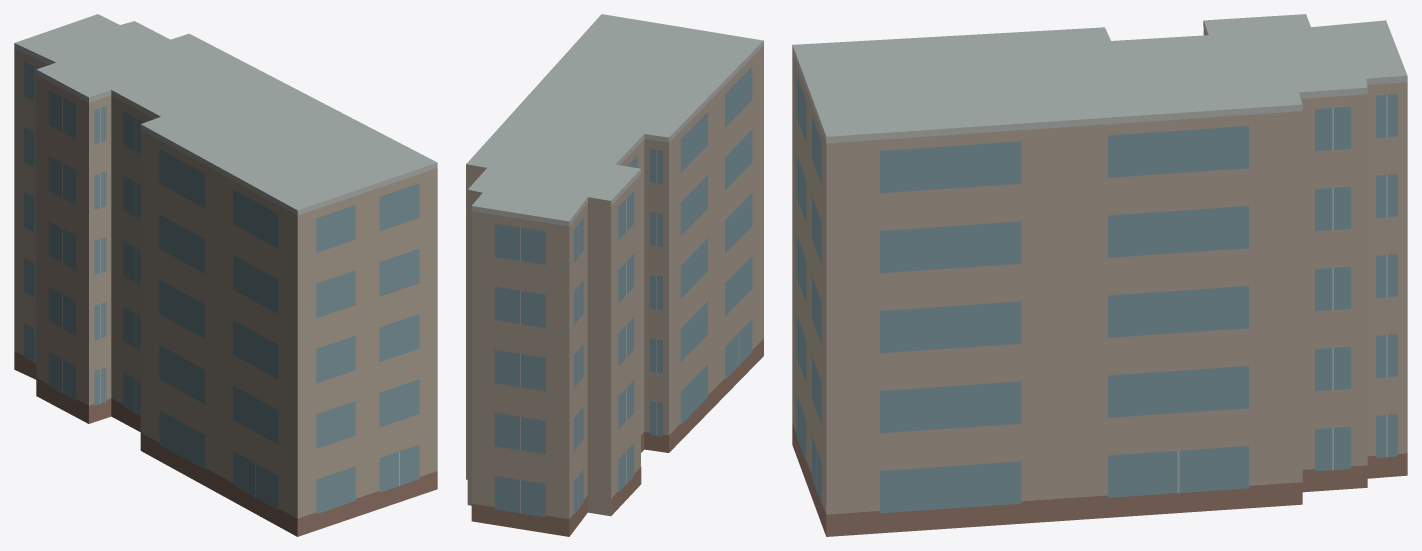
The model's file is survey-upis-33000239.glb.
3 views of the same model, side by side, from view 1: azimuth 30°, elevation 25°; view 2: azimuth 150°, elevation 25°; view 3: azimuth 270°, elevation 25° (orthographic). The views are drawn at different scales.
Visible parts, largest first — view 1: survey-upis-33000239.tmp; view 2: survey-upis-33000239.tmp; view 3: survey-upis-33000239.tmp.
Boxes of the visible parts, x1,y1,x2,y2 form: survey-upis-33000239.tmp: (14,14,437,536); survey-upis-33000239.tmp: (466,14,763,536); survey-upis-33000239.tmp: (792,14,1407,536).
Size of the model in its own units: 9.82 by 14.9 by 20.77.
